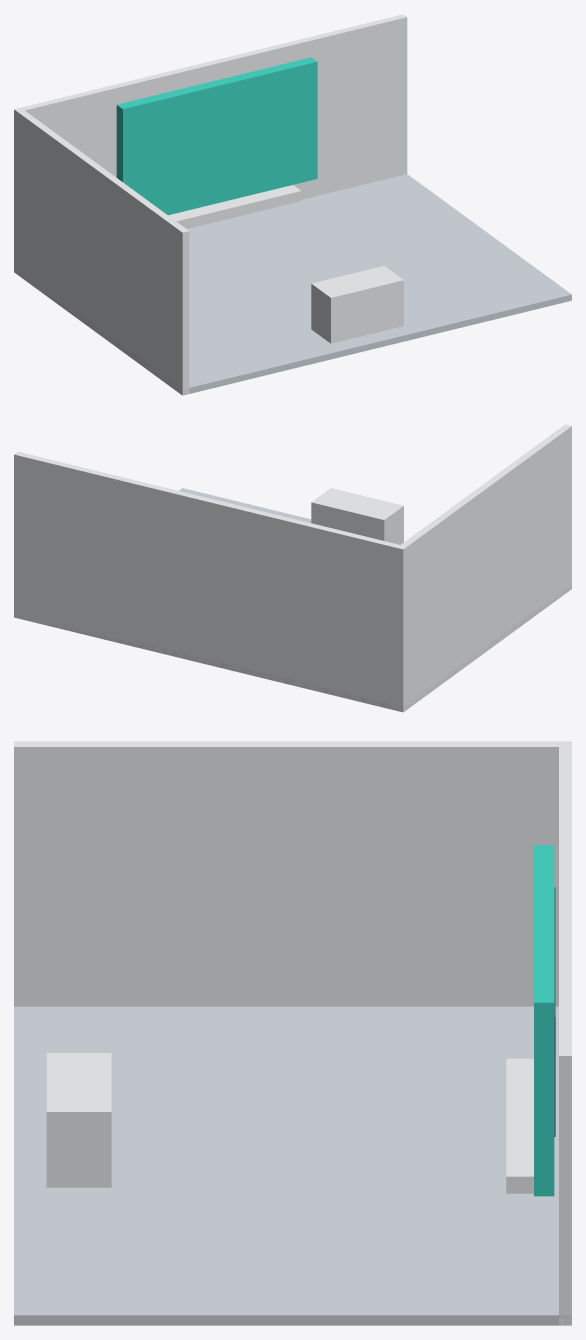
The picture shows the model from 3 angles, top to bottom: view 1: azimuth 30°, elevation 25°; view 2: azimuth 150°, elevation 25°; view 3: azimuth 270°, elevation 25°; orthographic projection. The views are drawn at different scales.
Parts seen in each view (by area): view 1: Exhibition Booth Concept; view 2: Exhibition Booth Concept; view 3: Exhibition Booth Concept.
Boxes of the visible parts, box(x1,y1,x2,y2) form: Exhibition Booth Concept: box(14, 14, 571, 395); Exhibition Booth Concept: box(14, 424, 571, 712); Exhibition Booth Concept: box(14, 741, 571, 1325).
Bounding box in the file's own units: 8 × 3.2 × 6.
